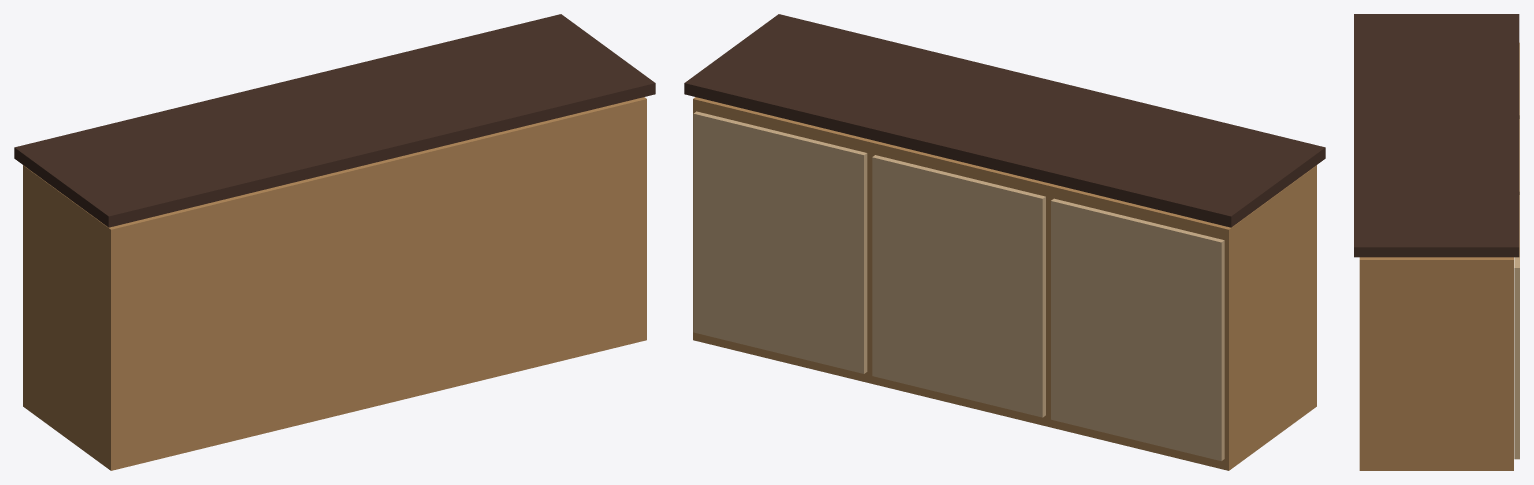
The picture shows the model from 3 angles, left to right: view 1: azimuth 30°, elevation 25°; view 2: azimuth 150°, elevation 25°; view 3: azimuth 270°, elevation 25°; orthographic projection. The views are drawn at different scales.
Parts seen in each view (by area): view 1: mueble_brushing; view 2: mueble_brushing; view 3: mueble_brushing.
Part boxes in pixels (bbox=[...]): mueble_brushing: bbox=[14, 14, 655, 470]; mueble_brushing: bbox=[684, 14, 1325, 470]; mueble_brushing: bbox=[1354, 14, 1519, 470].
Bounding box in the file's own units: 2.04 × 0.612 × 0.92.
